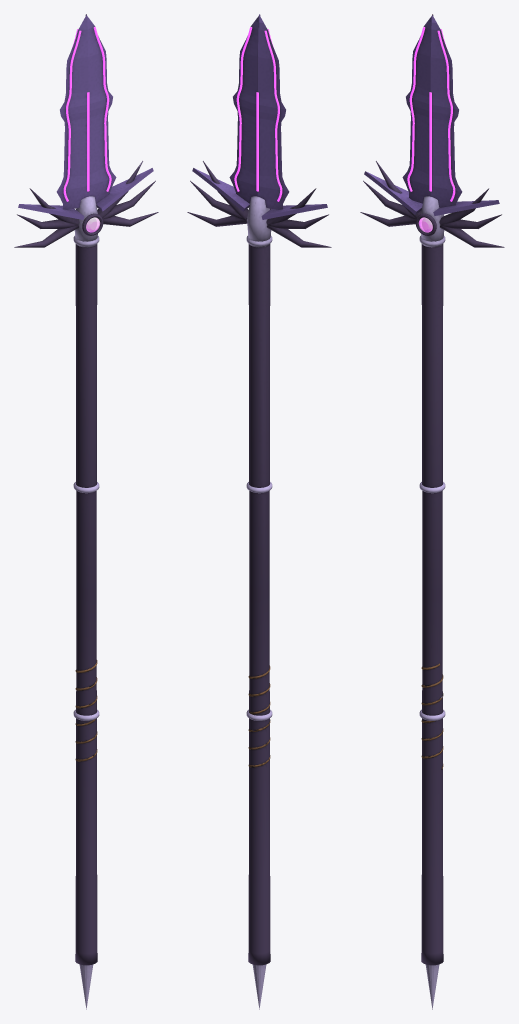
The model's file is arma_lend_lanca_vazio.glb.
The picture shows the model from 3 angles, left to right: view 1: azimuth 30°, elevation 25°; view 2: azimuth 150°, elevation 25°; view 3: azimuth 330°, elevation 25°; orthographic projection.
Visible parts, largest first — view 1: arma_lend_lanca_vazio, ponta_gume-1, ponta_gume1; view 2: arma_lend_lanca_vazio, ponta_gume-1b, ponta_gume1b; view 3: arma_lend_lanca_vazio, ponta_gume1, ponta_gume-1.
Boxes of the visible parts, x1,y1,x2,y2 form: arma_lend_lanca_vazio: (14,14,158,1009); ponta_gume-1: (63,30,81,201); ponta_gume1: (93,27,111,191); arma_lend_lanca_vazio: (187,14,331,1009); ponta_gume-1b: (264,30,282,201); ponta_gume1b: (234,27,252,191); arma_lend_lanca_vazio: (360,14,504,1009); ponta_gume1: (437,30,455,201); ponta_gume-1: (407,27,425,191).
Size of the model in its own units: 0.3968 by 2.62 by 0.0707.
Materials: 8 (1 with a texture image).
